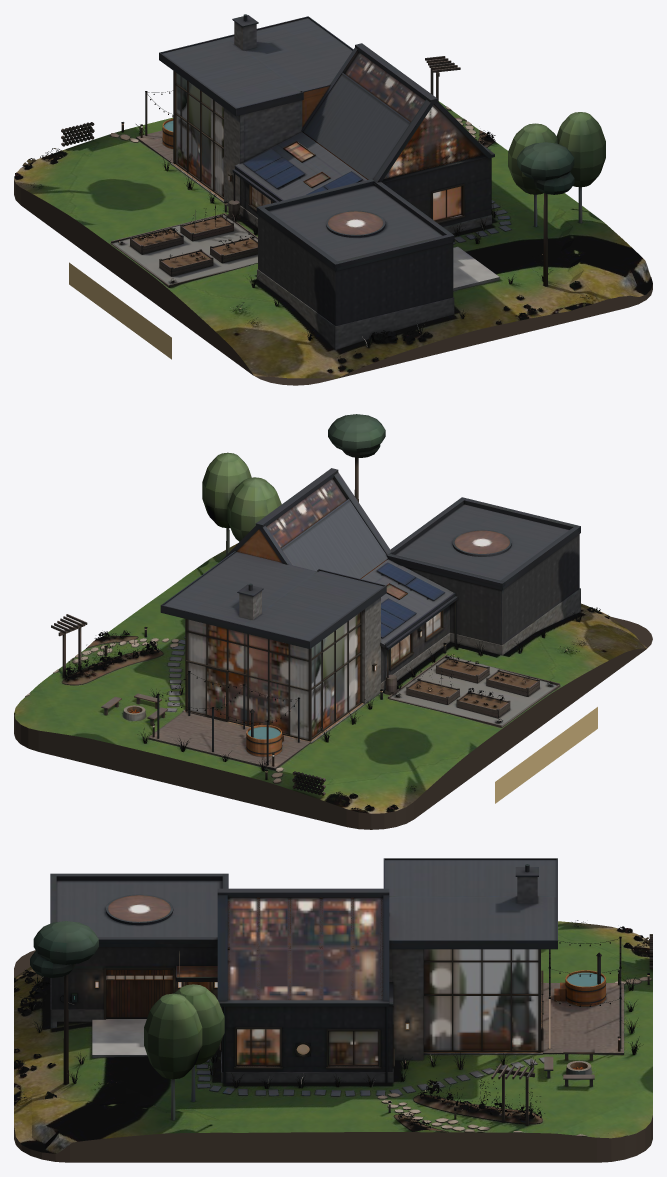
Rendered from miniature.glb.
3 renders of one model, top to bottom at view 1: azimuth 30°, elevation 25°; view 2: azimuth 150°, elevation 25°; view 3: azimuth 270°, elevation 25°, orthographic. The views are drawn at different scales.
Parts seen in each view (by area): view 1: Mini_Paint, Mini_Ground, Mini_Plaque; view 2: Mini_Paint, Mini_Ground, Mini_Plaque; view 3: Mini_Paint, Mini_Ground.
Part boxes in pixels (left/top/right/bottom): Mini_Paint: left=14, top=14, right=605, bottom=372; Mini_Ground: left=14, top=101, right=652, bottom=385; Mini_Plaque: left=69, top=262, right=171, bottom=359; Mini_Paint: left=14, top=414, right=609, bottom=811; Mini_Ground: left=14, top=543, right=652, bottom=829; Mini_Plaque: left=495, top=707, right=597, bottom=803; Mini_Paint: left=14, top=858, right=652, bottom=1136; Mini_Ground: left=14, top=921, right=652, bottom=1162.
Bounding box in the file's own units: 0.3699 × 0.1684 × 0.4385.
4 materials, 2 textured.
